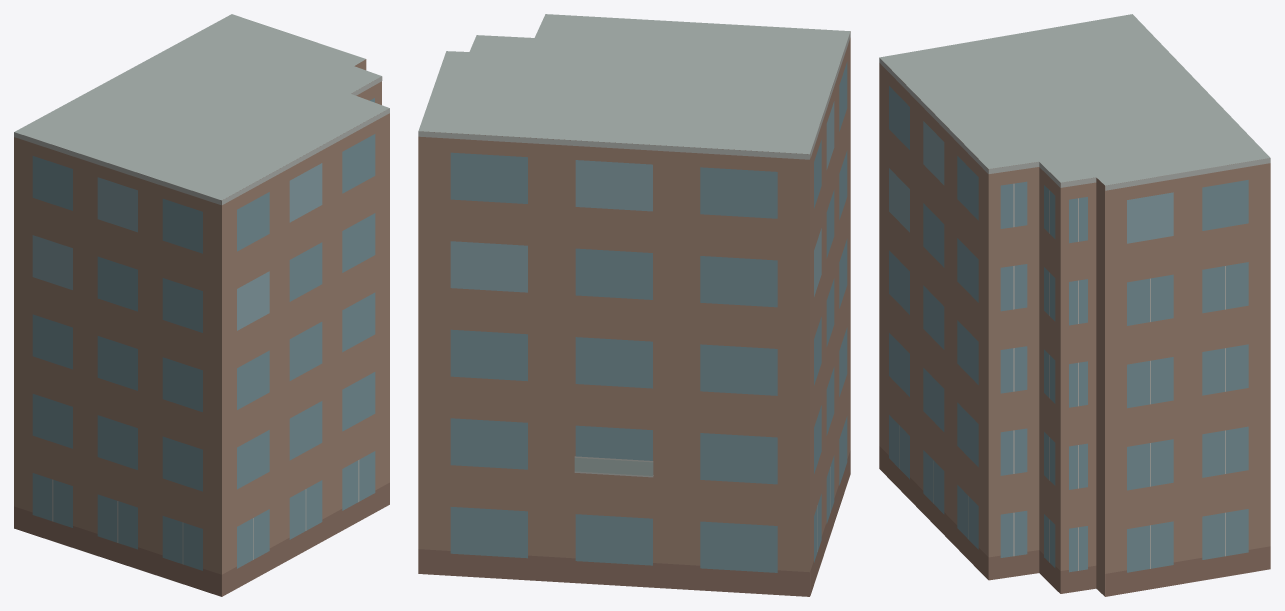
The model's file is survey-upis-32849661.glb.
The picture shows the model from 3 angles, left to right: view 1: azimuth 30°, elevation 25°; view 2: azimuth 150°, elevation 25°; view 3: azimuth 270°, elevation 25°; orthographic projection. The views are drawn at different scales.
Parts seen in each view (by area): view 1: survey-upis-32849661.tmp; view 2: survey-upis-32849661.tmp; view 3: survey-upis-32849661.tmp.
Boxes of the visible parts, box(x1,y1,x2,y2) form: survey-upis-32849661.tmp: box(14, 14, 389, 596); survey-upis-32849661.tmp: box(418, 14, 850, 596); survey-upis-32849661.tmp: box(879, 14, 1270, 596).
Bounding box in the file's own units: 17.37 × 19.4 × 16.74.
